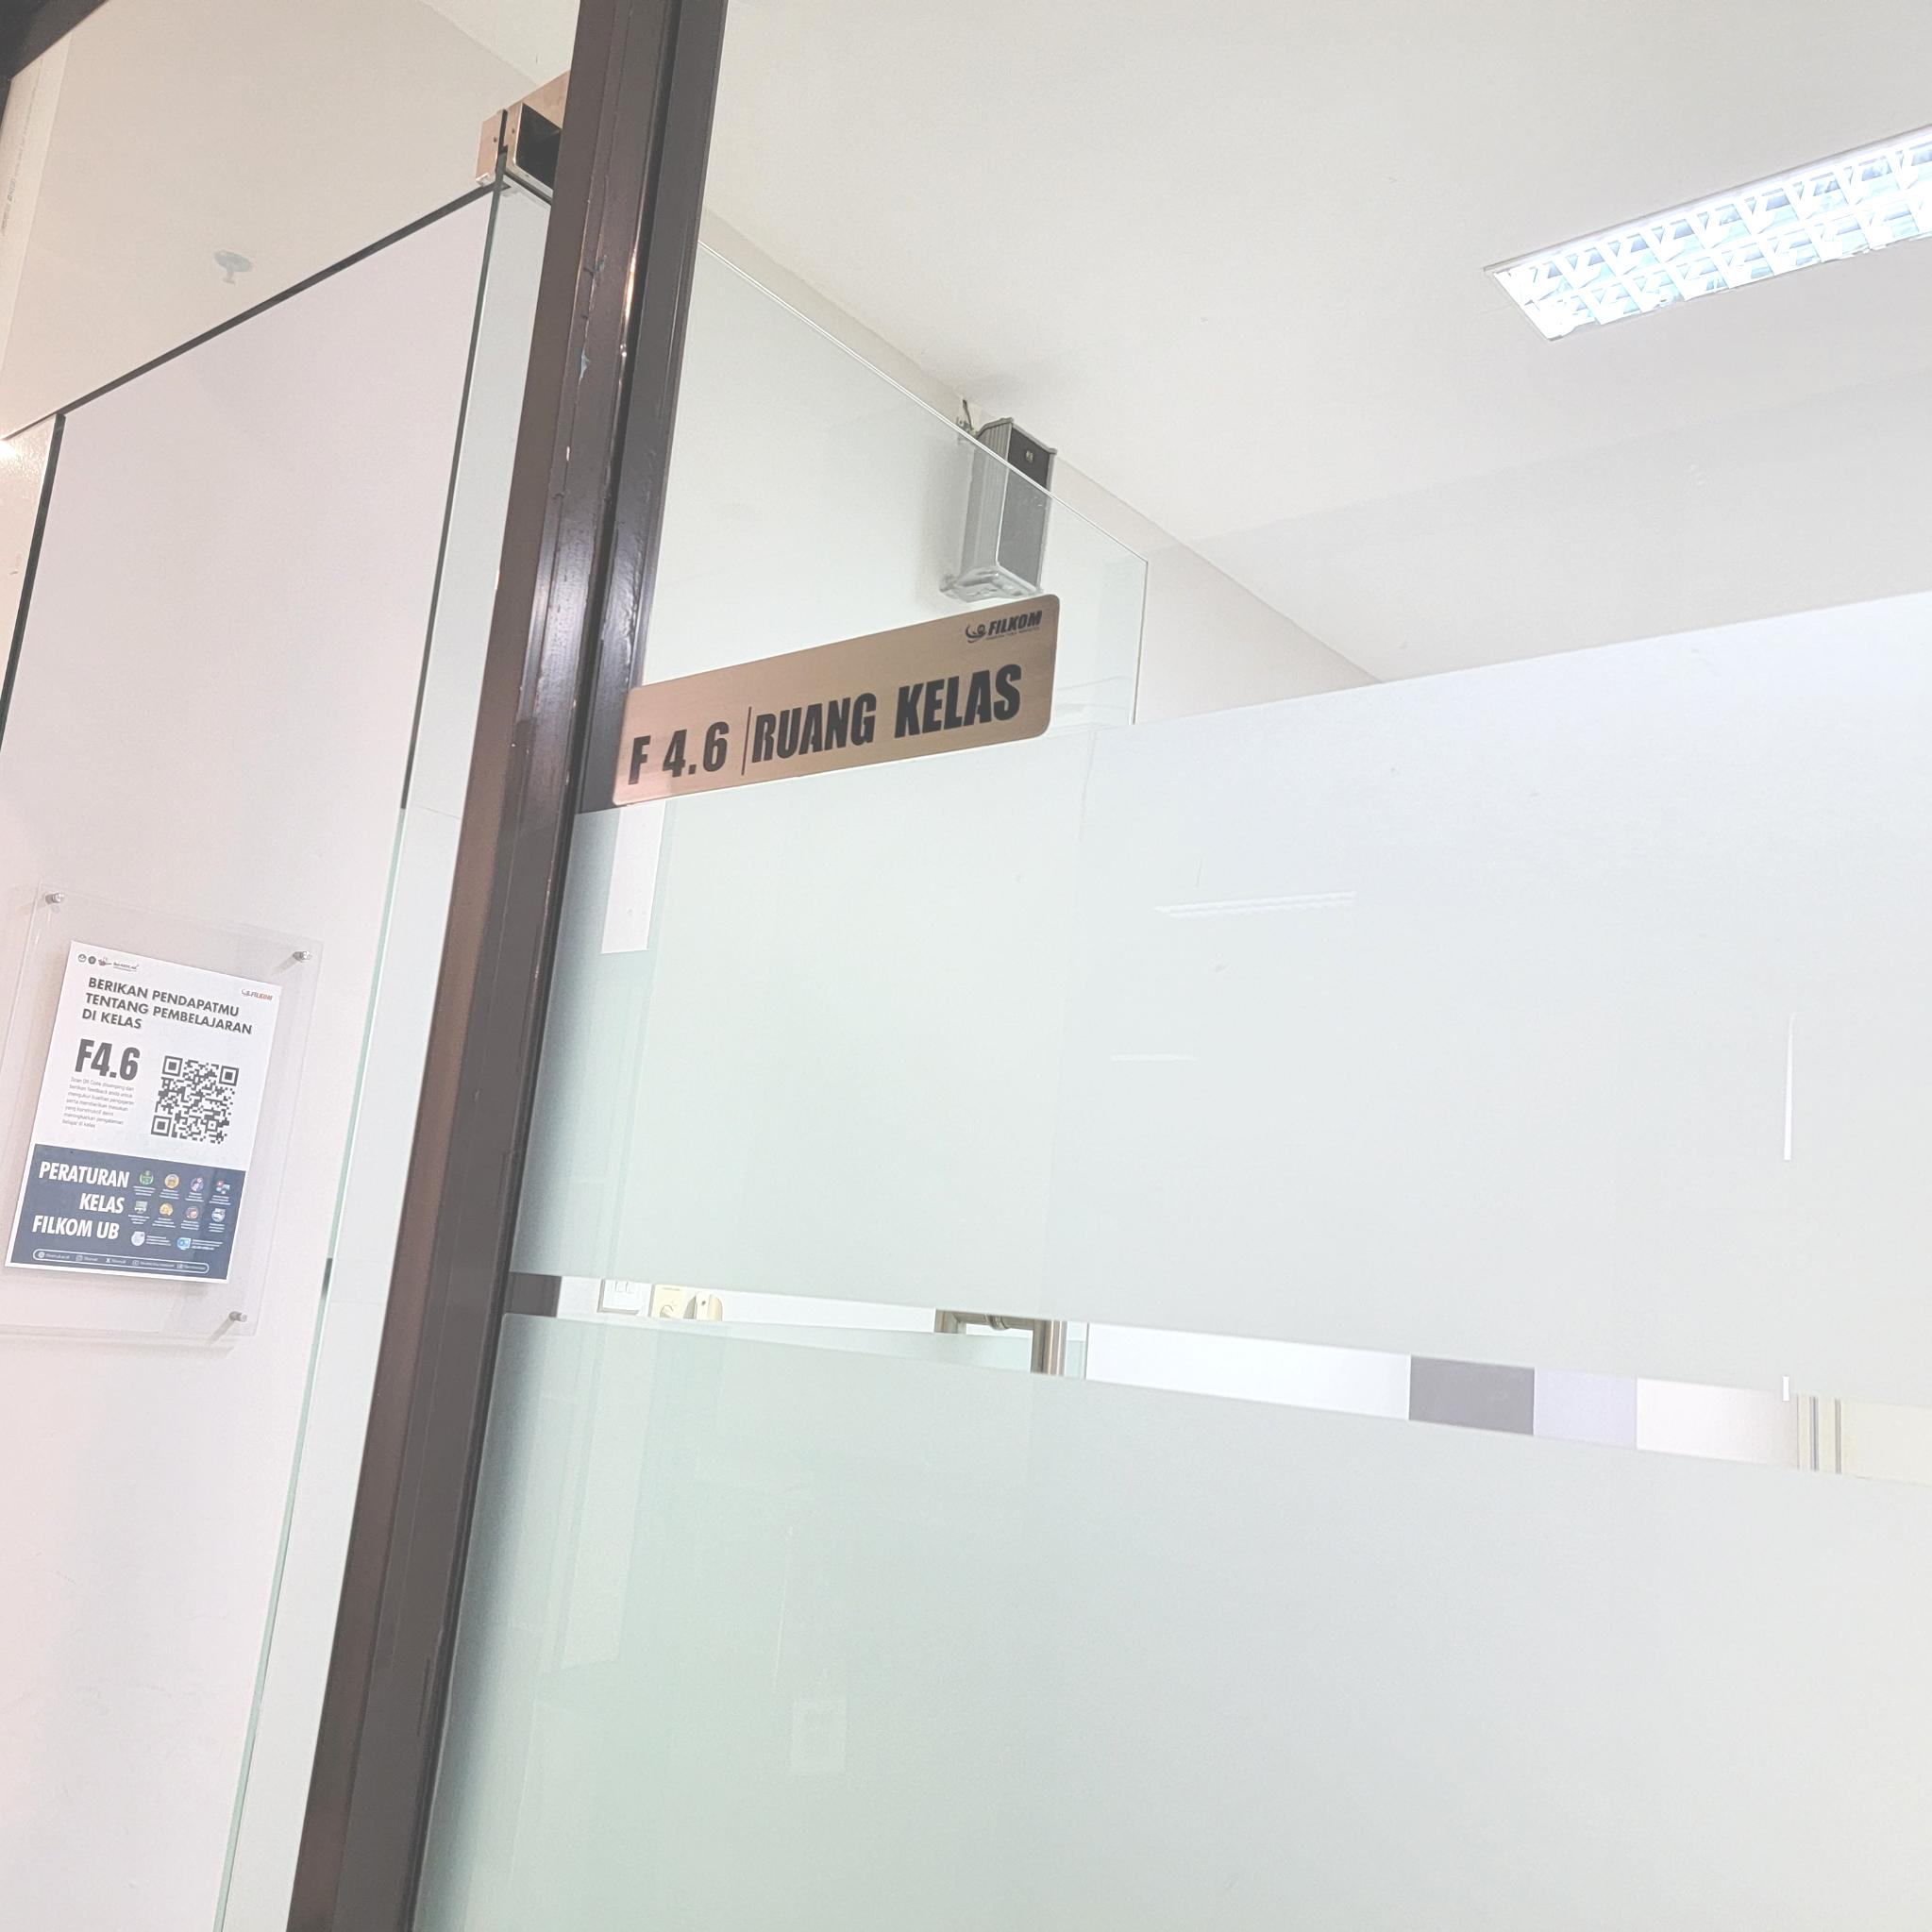plate: (610, 594, 1060, 807)
